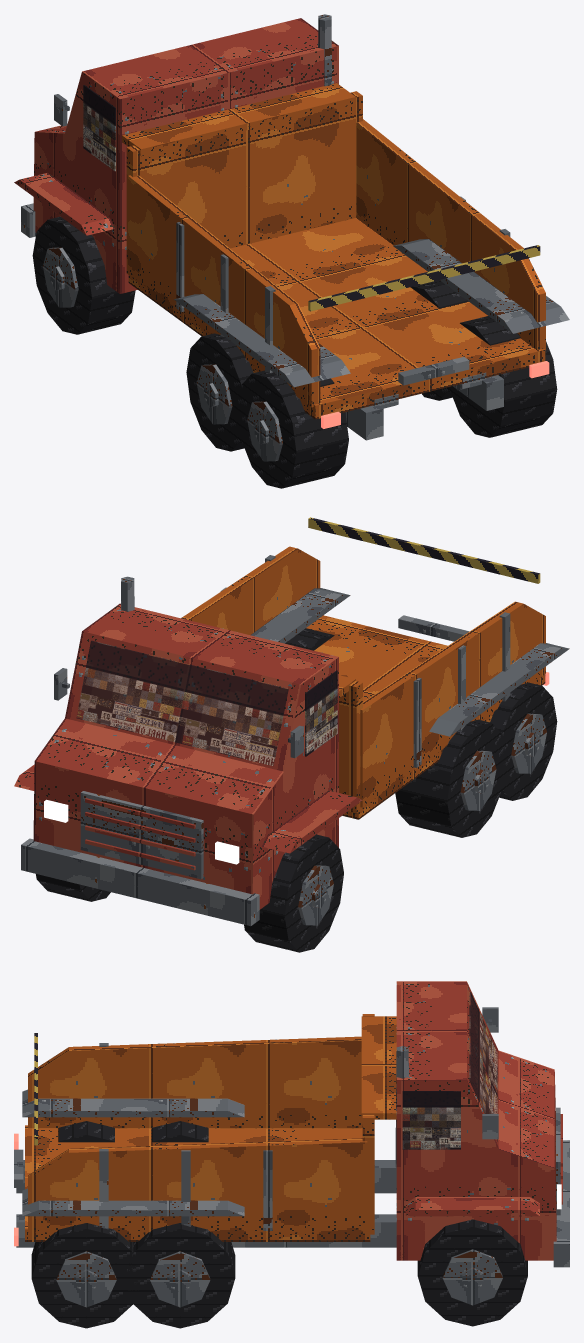
The model's file is vehicles__truck.glb.
3 views of the same model, one above another, from view 1: azimuth 30°, elevation 25°; view 2: azimuth 150°, elevation 25°; view 3: azimuth 270°, elevation 25° (orthographic). The views are drawn at different scales.
Parts seen in each view (by area): view 1: _MeshInstance3D_307, _MeshInstance3D_283, _MeshInstance3D_284, _MeshInstance3D_295, _MeshInstance3D_289, _MeshInstance3D_304, _MeshInstance3D_292, _MeshInstance3D_309, _MeshInstance3D_308, _MeshInstance3D_285, _MeshInstance3D_296, _MeshInstance3D_293 (+2 smaller); view 2: _MeshInstance3D_283, _MeshInstance3D_307, _MeshInstance3D_284, _MeshInstance3D_285, _MeshInstance3D_292, _MeshInstance3D_289, _MeshInstance3D_295, _MeshInstance3D_309, _MeshInstance3D_308, _MeshInstance3D_290, _MeshInstance3D_293, _MeshInstance3D_296 (+3 smaller); view 3: _MeshInstance3D_307, _MeshInstance3D_283, _MeshInstance3D_284, _MeshInstance3D_298, _MeshInstance3D_301, _MeshInstance3D_304, _MeshInstance3D_285, _MeshInstance3D_299, _MeshInstance3D_305, _MeshInstance3D_302, _MeshInstance3D_308, _MeshInstance3D_292 (+2 smaller).
Part boxes in pixels (x1=…): _MeshInstance3D_307: x1=122, y1=83, x2=545, y2=419; _MeshInstance3D_283: x1=14, y1=18, x2=338, y2=293; _MeshInstance3D_284: x1=21, y1=14, x2=569, y2=440; _MeshInstance3D_295: x1=238, y1=370, x2=348, y2=488; _MeshInstance3D_289: x1=32, y1=216, x2=135, y2=334; _MeshInstance3D_304: x1=449, y1=316, x2=557, y2=437; _MeshInstance3D_292: x1=186, y1=333, x2=253, y2=451; _MeshInstance3D_309: x1=308, y1=245, x2=540, y2=311; _MeshInstance3D_308: x1=176, y1=196, x2=510, y2=408; _MeshInstance3D_285: x1=83, y1=85, x2=115, y2=171; _MeshInstance3D_296: x1=247, y1=401, x2=282, y2=461; _MeshInstance3D_293: x1=196, y1=364, x2=232, y2=424; _MeshInstance3D_283: x1=14, y1=603, x2=362, y2=909; _MeshInstance3D_307: x1=181, y1=546, x2=545, y2=819; _MeshInstance3D_284: x1=21, y1=576, x2=569, y2=926; _MeshInstance3D_285: x1=76, y1=640, x2=337, y2=766; _MeshInstance3D_292: x1=395, y1=719, x2=506, y2=837; _MeshInstance3D_289: x1=244, y1=834, x2=343, y2=952; _MeshInstance3D_295: x1=490, y1=682, x2=557, y2=800; _MeshInstance3D_309: x1=308, y1=517, x2=540, y2=583; _MeshInstance3D_308: x1=220, y1=555, x2=510, y2=767; _MeshInstance3D_290: x1=298, y1=865, x2=333, y2=925; _MeshInstance3D_293: x1=460, y1=750, x2=496, y2=810; _MeshInstance3D_296: x1=511, y1=713, x2=546, y2=773; _MeshInstance3D_307: x1=25, y1=1014, x2=396, y2=1241; _MeshInstance3D_283: x1=396, y1=981, x2=562, y2=1260; _MeshInstance3D_284: x1=14, y1=1007, x2=569, y2=1267; _MeshInstance3D_298: x1=417, y1=1219, x2=527, y2=1326; _MeshInstance3D_301: x1=125, y1=1223, x2=235, y2=1328; _MeshInstance3D_304: x1=31, y1=1223, x2=140, y2=1328; _MeshInstance3D_285: x1=402, y1=991, x2=497, y2=1149; _MeshInstance3D_299: x1=442, y1=1249, x2=502, y2=1305; _MeshInstance3D_305: x1=56, y1=1251, x2=116, y2=1307; _MeshInstance3D_302: x1=150, y1=1251, x2=210, y2=1307; _MeshInstance3D_308: x1=24, y1=1043, x2=272, y2=1230; _MeshInstance3D_292: x1=152, y1=1121, x2=208, y2=1142.
Bounding box in the file's own units: 2.52 × 2.5 × 4.75.
Materials: 10 (8 with a texture image).
